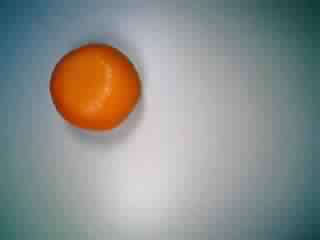orange: (46, 39, 144, 137)
